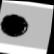correct: (0, 11, 33, 41)
